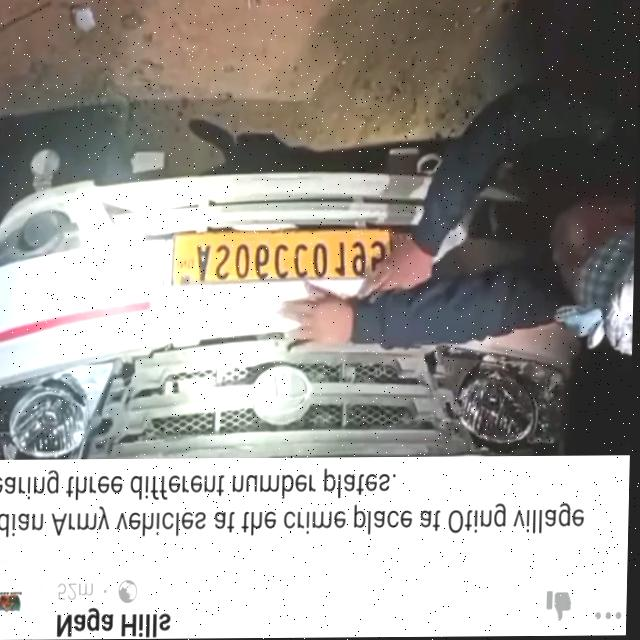plate: (166, 219, 401, 300)
